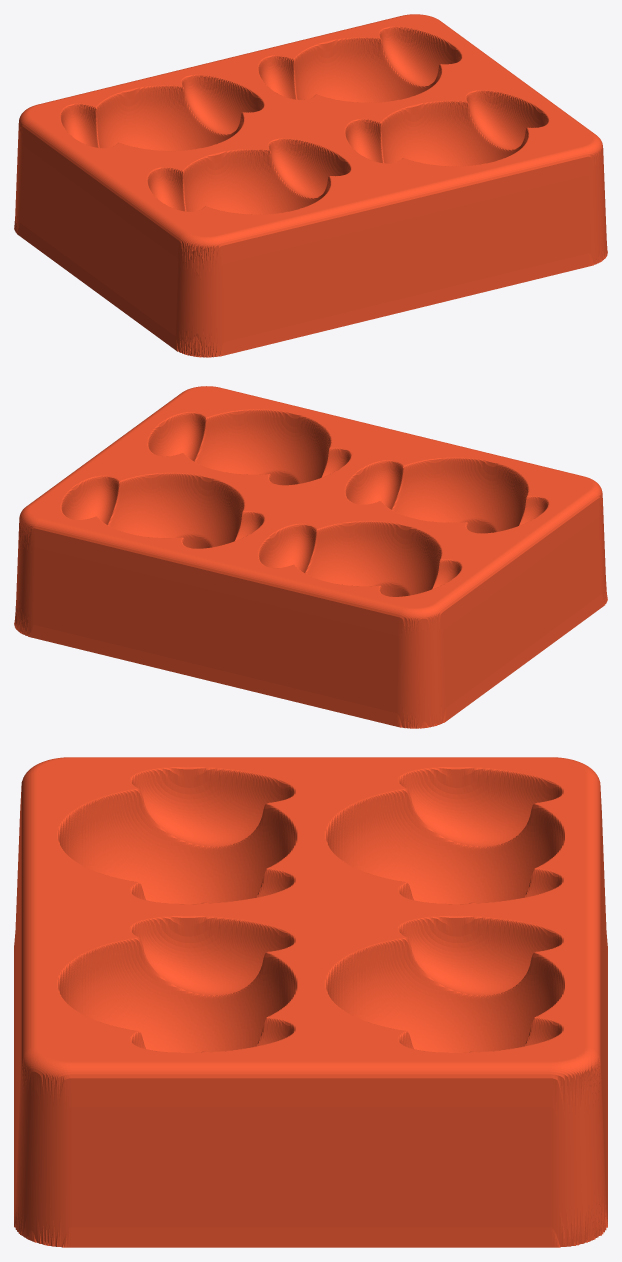
File: mold.glb
3 views of the same model, one above another, from view 1: azimuth 30°, elevation 25°; view 2: azimuth 150°, elevation 25°; view 3: azimuth 270°, elevation 25° (orthographic). The views are drawn at different scales.
Parts seen in each view (by area): view 1: geometry_0; view 2: geometry_0; view 3: geometry_0.
Boxes of the visible parts, bbox=[...] form: geometry_0: bbox=[14, 14, 607, 357]; geometry_0: bbox=[14, 386, 607, 728]; geometry_0: bbox=[14, 757, 607, 1247].
Bounding box in the file's own units: 0.1213 × 0.031 × 0.0945.
